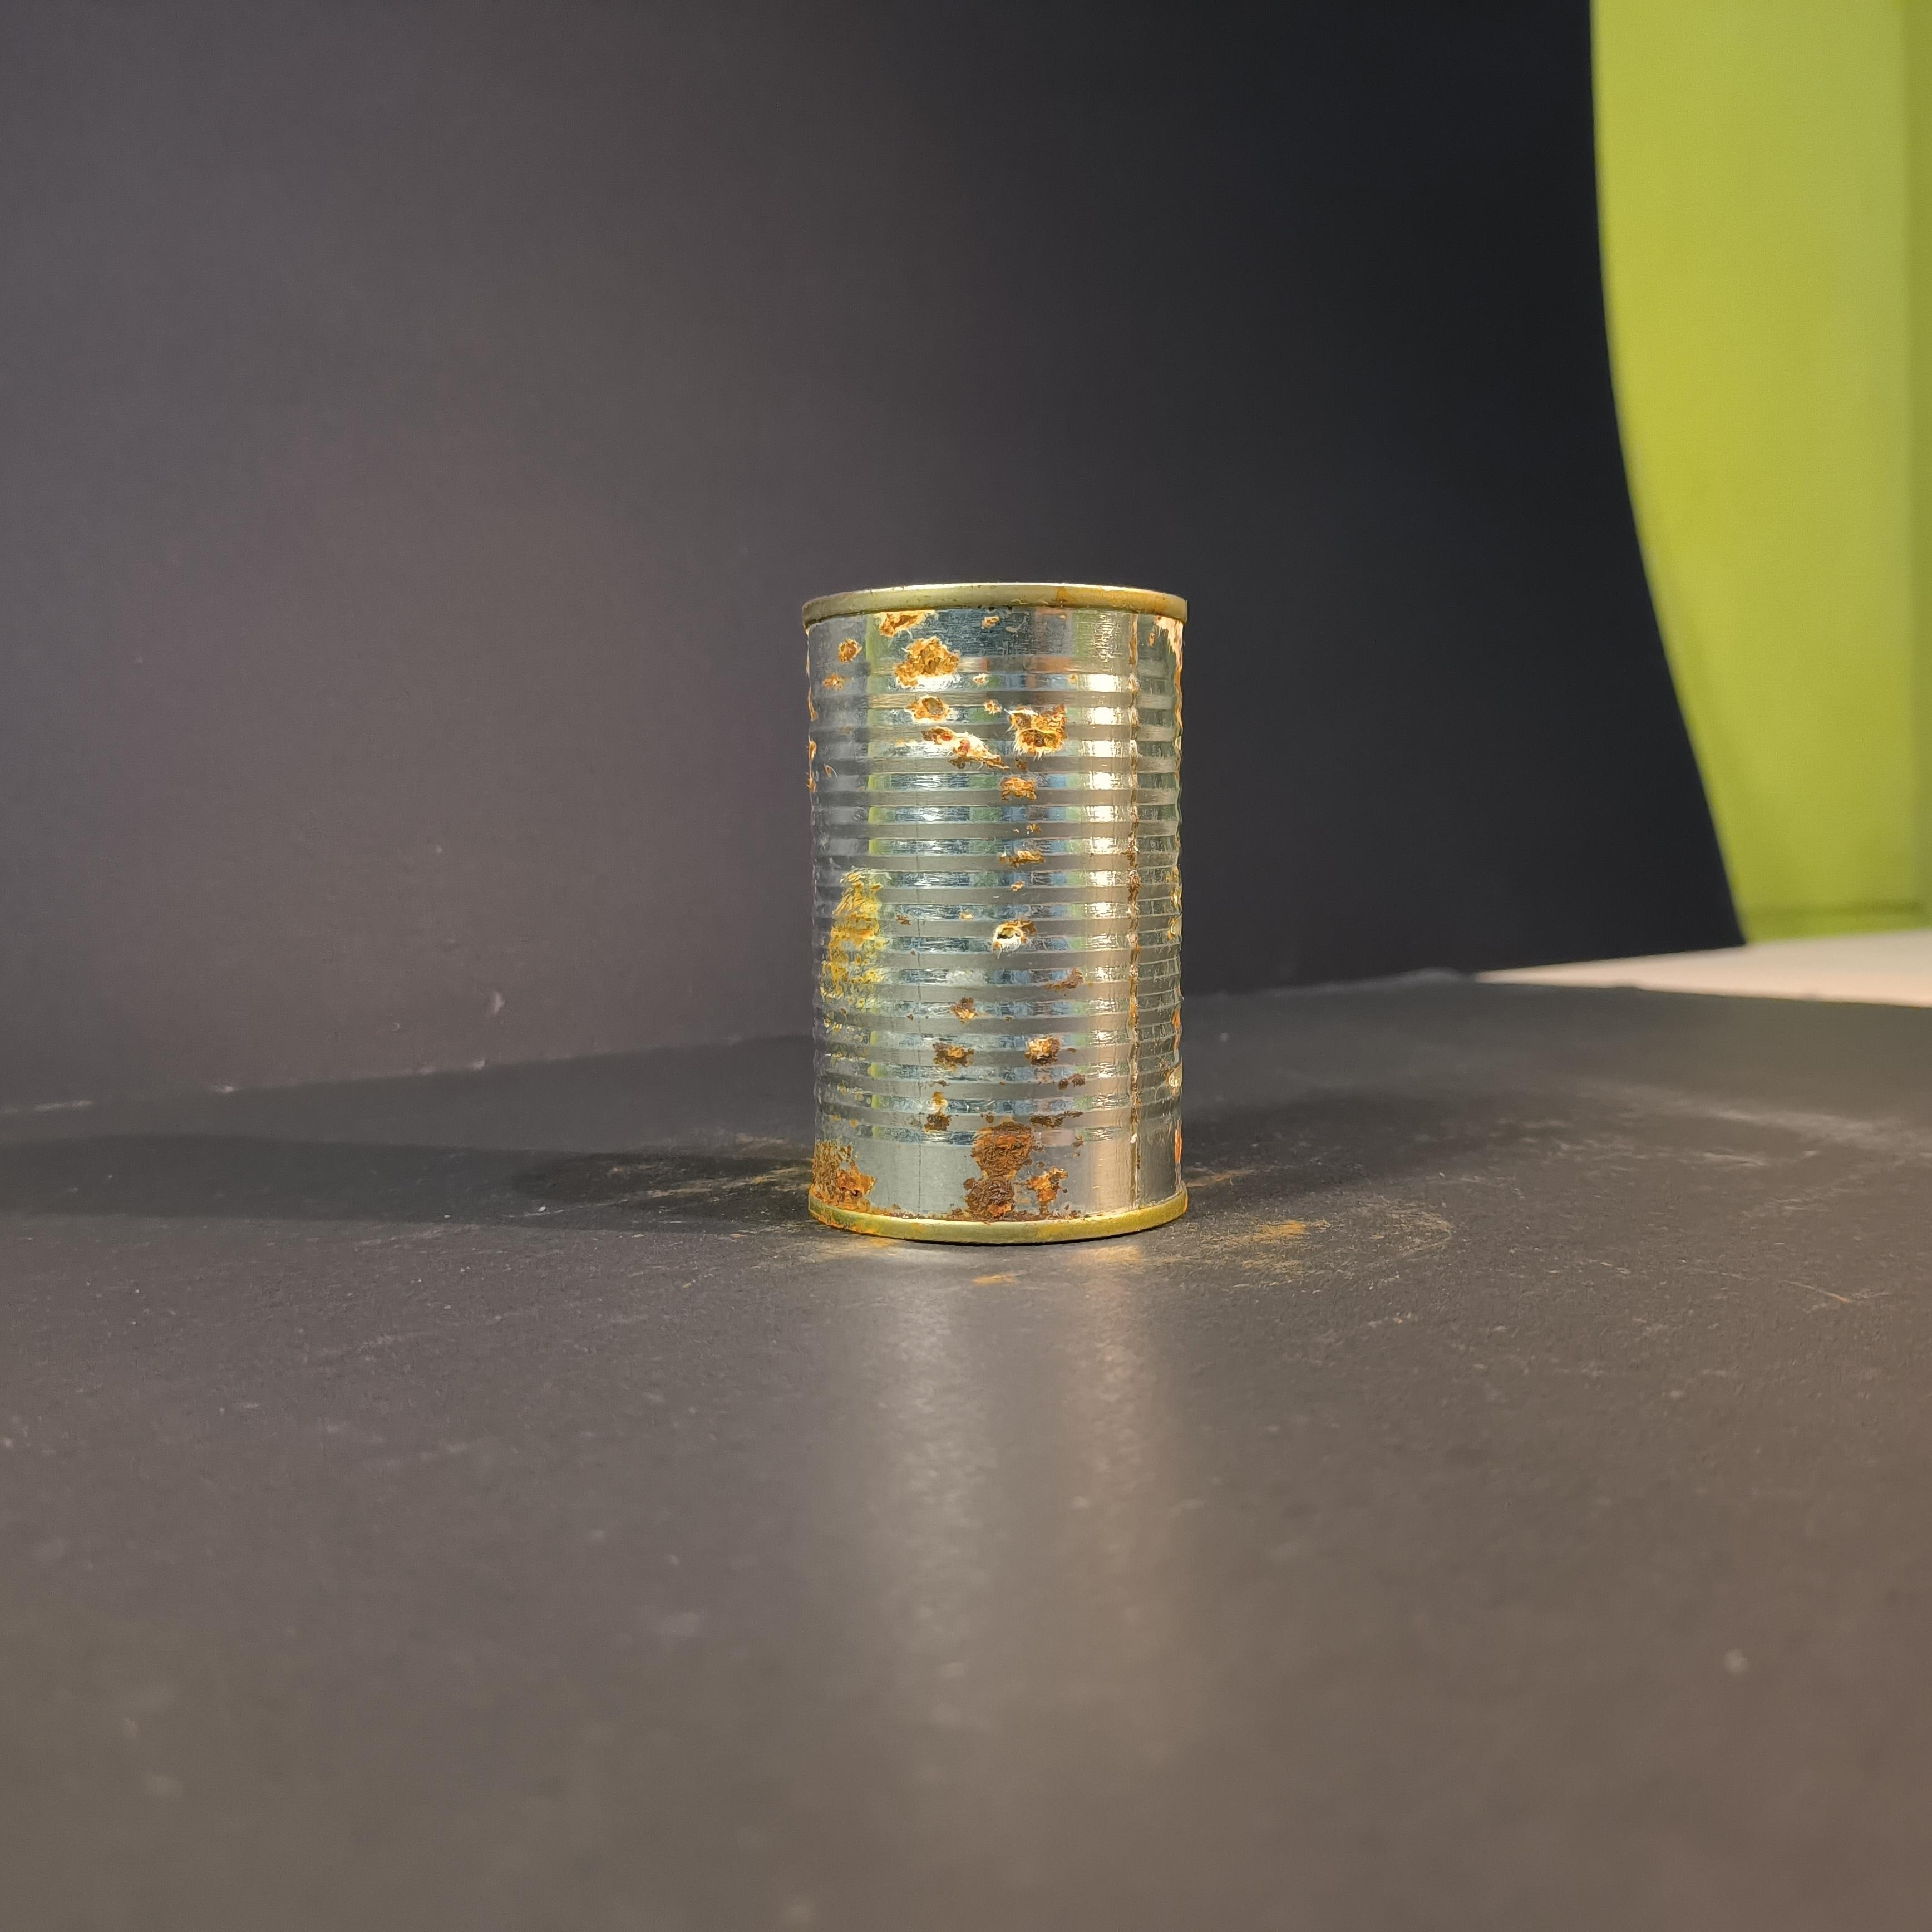Rusted: (777, 568, 1230, 1249)
